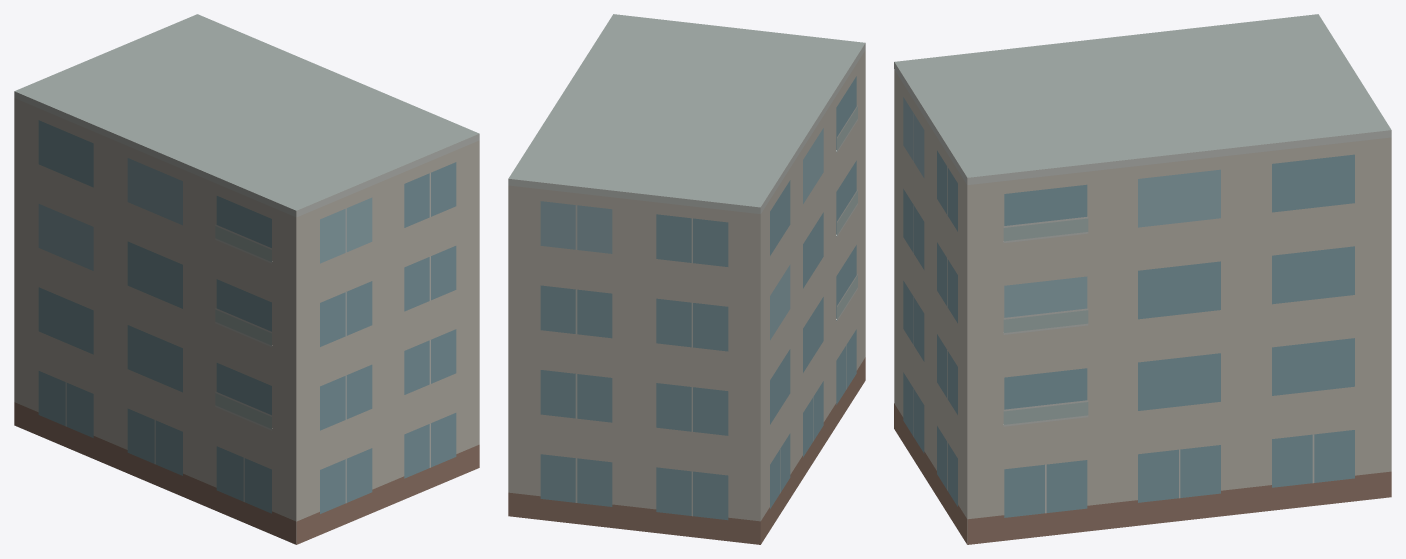
Rendered from residential-02e67831-b69d-4c65-91cf-961558aae1ec.glb.
3 renders of one model, left to right at view 1: azimuth 30°, elevation 25°; view 2: azimuth 150°, elevation 25°; view 3: azimuth 270°, elevation 25°, orthographic. The views are drawn at different scales.
Visible parts, largest first — view 1: residential-02e67831-b69d-4c65-91cf-961558aae1ec.tmp; view 2: residential-02e67831-b69d-4c65-91cf-961558aae1ec.tmp; view 3: residential-02e67831-b69d-4c65-91cf-961558aae1ec.tmp.
Boxes of the visible parts, box(x1,y1,x2,y2) form: residential-02e67831-b69d-4c65-91cf-961558aae1ec.tmp: box(14, 14, 479, 544); residential-02e67831-b69d-4c65-91cf-961558aae1ec.tmp: box(508, 14, 865, 544); residential-02e67831-b69d-4c65-91cf-961558aae1ec.tmp: box(894, 14, 1391, 544).
Bounding box in the file's own units: 11.69 × 12.2 × 15.
